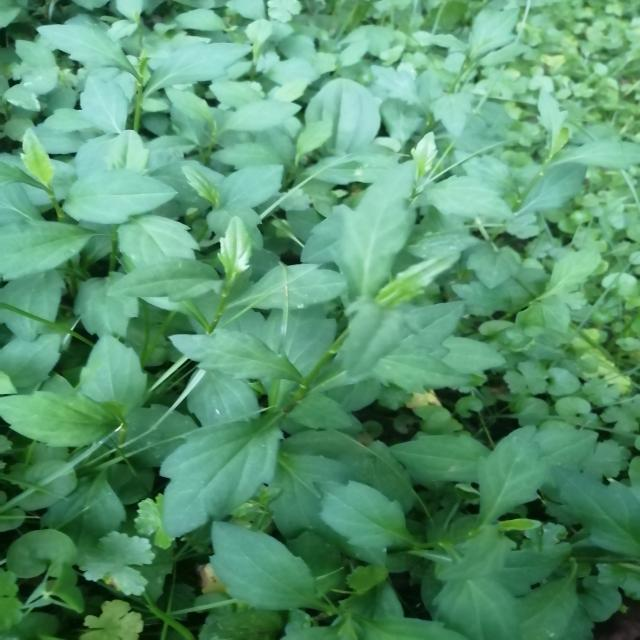Indian aster: (153, 195, 464, 521), (270, 447, 571, 638)
